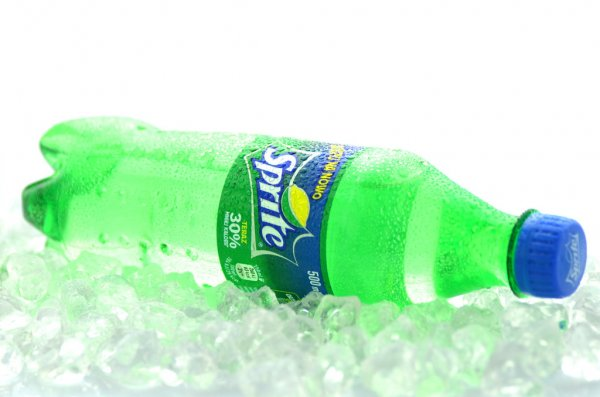Sprite: (34, 115, 584, 303)
